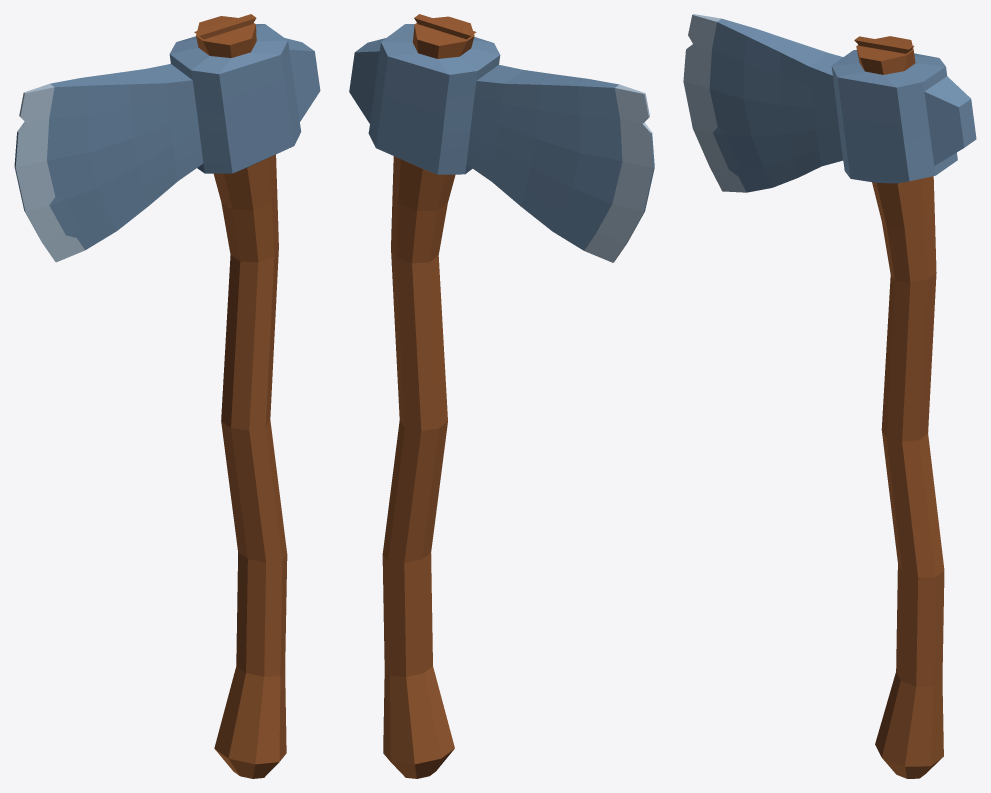
File: axe2.glb
3 views of the same model, side by side, from view 1: azimuth 30°, elevation 25°; view 2: azimuth 150°, elevation 25°; view 3: azimuth 330°, elevation 25° (orthographic). The views are drawn at different scales.
Parts seen in each view (by area): view 1: ascia media; view 2: ascia media; view 3: ascia media.
Part boxes in pixels (left/top/right/bottom): ascia media: left=14, top=14, right=320, bottom=778; ascia media: left=349, top=14, right=654, bottom=778; ascia media: left=683, top=14, right=976, bottom=778.
Bounding box in the file's own units: 13.95 × 33.81 × 3.54.
